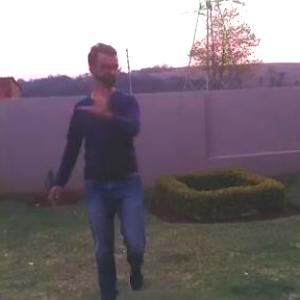follow_hand: (77, 77, 114, 118)
